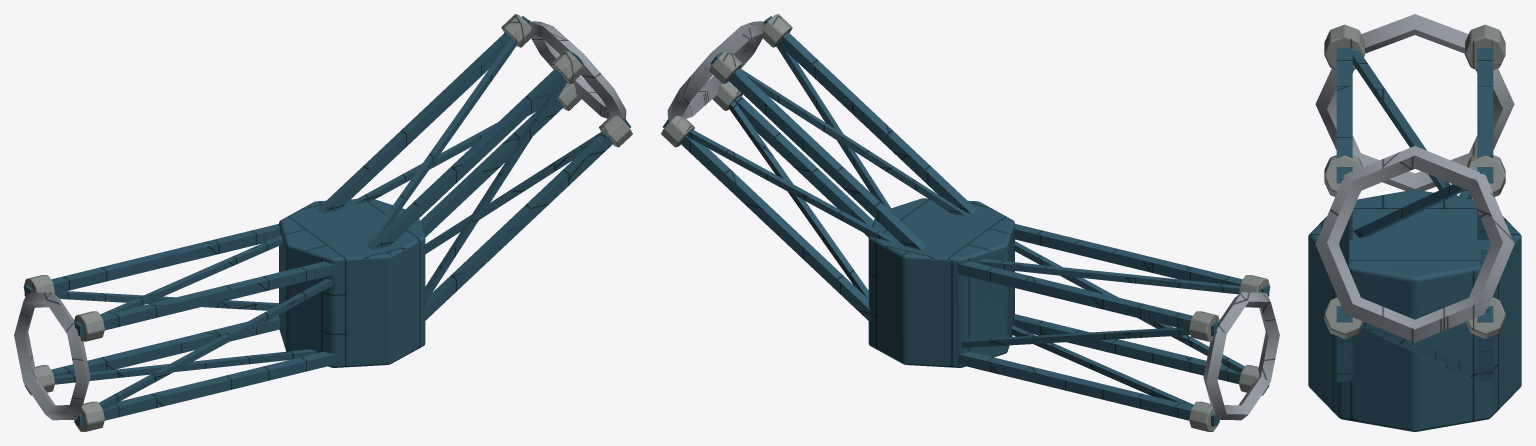
File: truss_rise_adapter_lod2.glb
3 views of the same model, side by side, from view 1: azimuth 30°, elevation 25°; view 2: azimuth 150°, elevation 25°; view 3: azimuth 270°, elevation 25° (orthographic). The views are drawn at different scales.
Parts seen in each view (by area): view 1: LOD2_Armor, LOD2_BrushedMetal, LOD2_Hull; view 2: LOD2_Armor, LOD2_BrushedMetal, LOD2_Hull; view 3: LOD2_Armor, LOD2_BrushedMetal, LOD2_Hull.
Part boxes in pixels (bbox=[...]): LOD2_Armor: bbox=[24, 16, 630, 426]; LOD2_BrushedMetal: bbox=[14, 21, 626, 420]; LOD2_Hull: bbox=[23, 14, 632, 431]; LOD2_Armor: bbox=[663, 16, 1269, 426]; LOD2_BrushedMetal: bbox=[667, 21, 1279, 420]; LOD2_Hull: bbox=[661, 14, 1270, 431]; LOD2_Armor: bbox=[1308, 48, 1521, 431]; LOD2_BrushedMetal: bbox=[1315, 14, 1514, 342]; LOD2_Hull: bbox=[1324, 24, 1505, 338].
Size of the model in its own units: 7.57 by 3.49 by 1.75.
3 materials, 3 textured.
